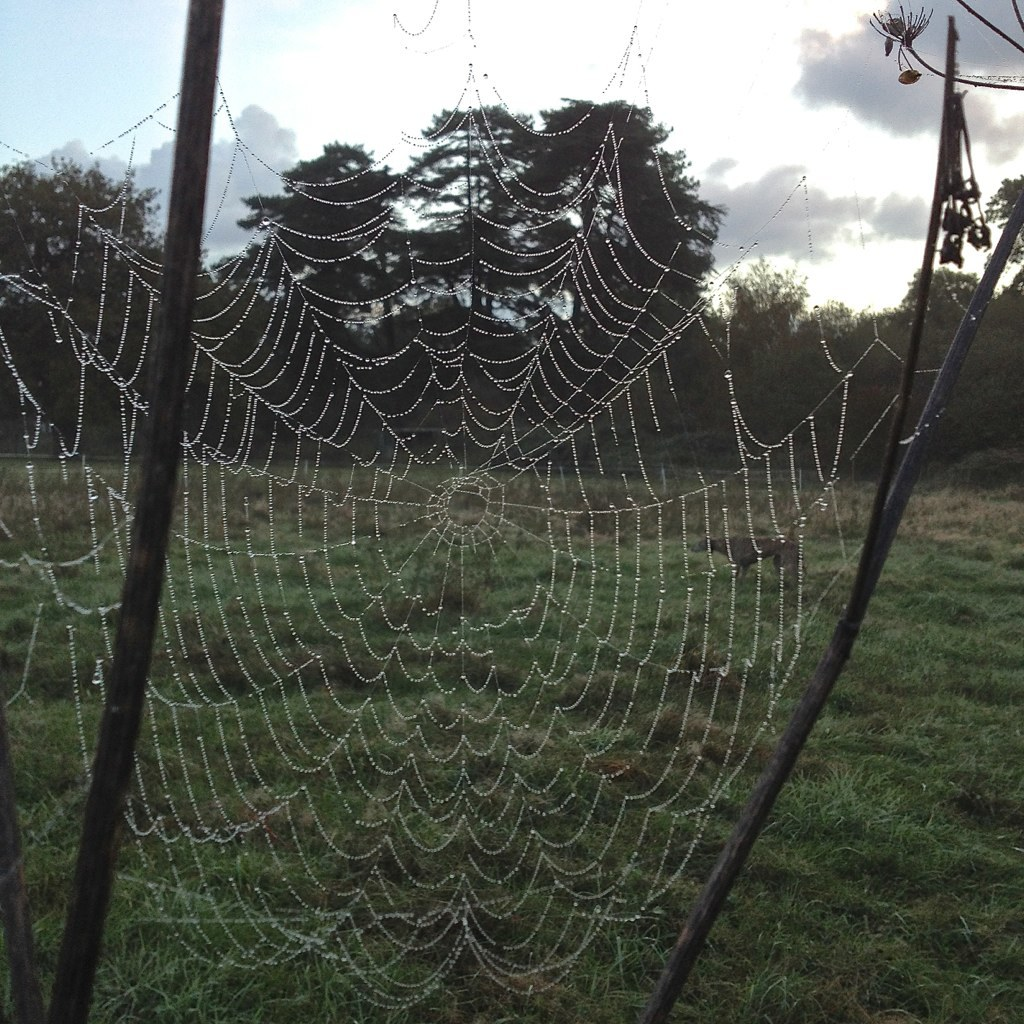Tree: (0, 97, 1023, 463)
